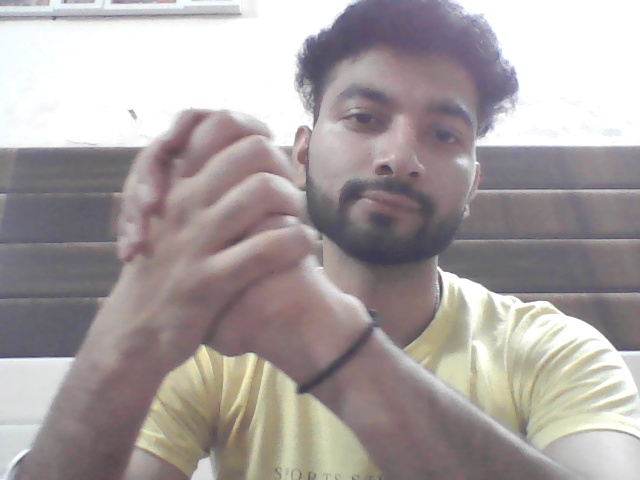Thank You: (94, 97, 338, 380)
